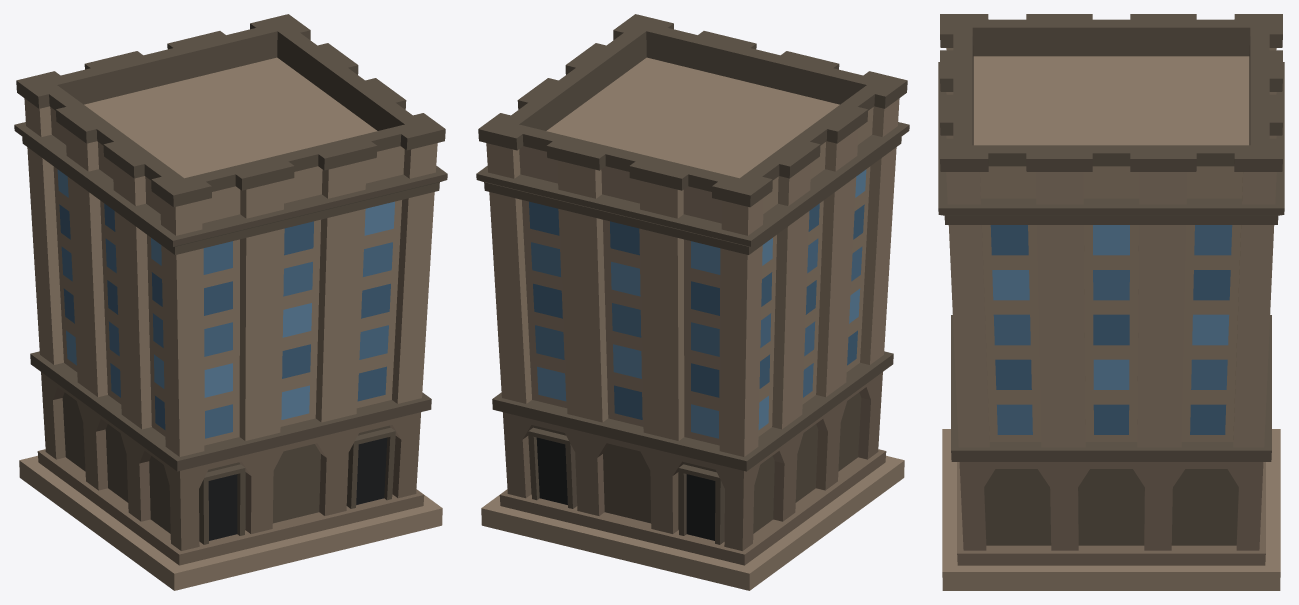
The model's file is Scene-Architecture_C-Architecture_C.glb.
The picture shows the model from 3 angles, left to right: view 1: azimuth 30°, elevation 25°; view 2: azimuth 150°, elevation 25°; view 3: azimuth 270°, elevation 25°; orthographic projection. The views are drawn at different scales.
Visible parts, largest first — view 1: Scene-Architecture_C-Architecture_C; view 2: Scene-Architecture_C-Architecture_C; view 3: Scene-Architecture_C-Architecture_C.
Boxes of the visible parts, box(x1,y1,x2,y2) form: Scene-Architecture_C-Architecture_C: box(14, 14, 447, 590); Scene-Architecture_C-Architecture_C: box(476, 14, 909, 590); Scene-Architecture_C-Architecture_C: box(938, 14, 1284, 590).
Bounding box in the file's own units: 5.74 × 7.92 × 5.74.
1 material, 1 textured.
